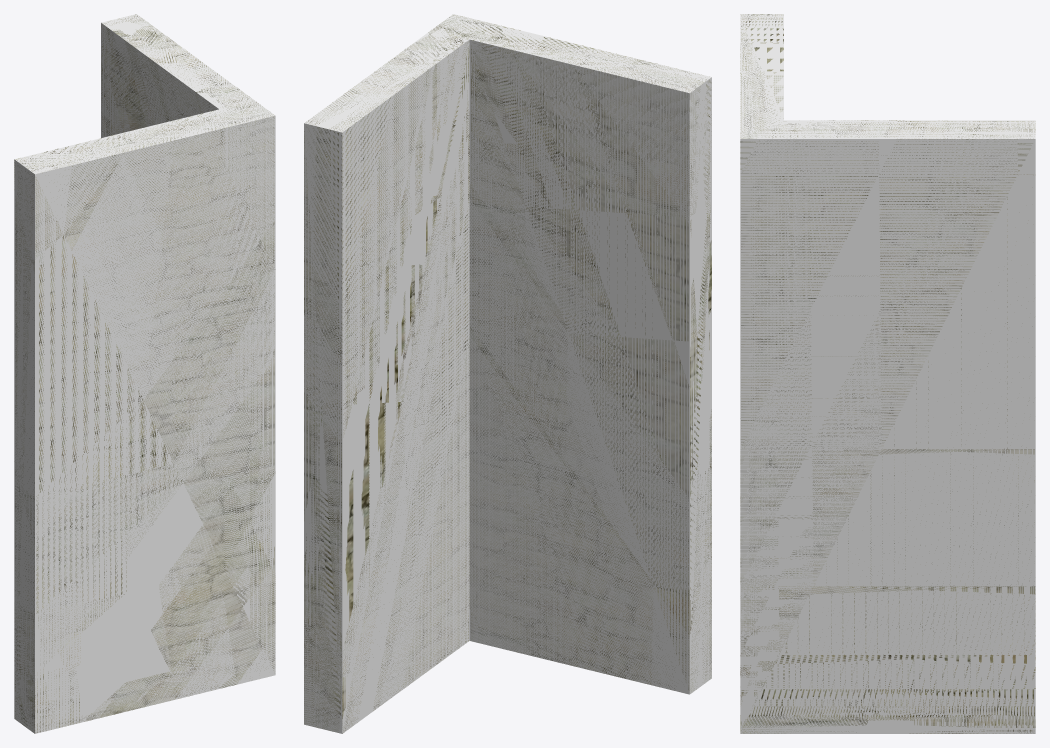
The model's file is wall_stone_edge.dae.
The picture shows the model from 3 angles, left to right: view 1: azimuth 30°, elevation 25°; view 2: azimuth 150°, elevation 25°; view 3: azimuth 270°, elevation 25°; orthographic projection. The views are drawn at different scales.
Parts seen in each view (by area): view 1: SketchUp; view 2: SketchUp; view 3: SketchUp.
Part boxes in pixels (<box>): SketchUp: <box>14,14,275,733</box>; SketchUp: <box>304,14,711,733</box>; SketchUp: <box>740,14,1035,733</box>.
Bounding box in the file's own units: 53.15 × 53.15 × 118.
Materials: 2 (1 with a texture image).
